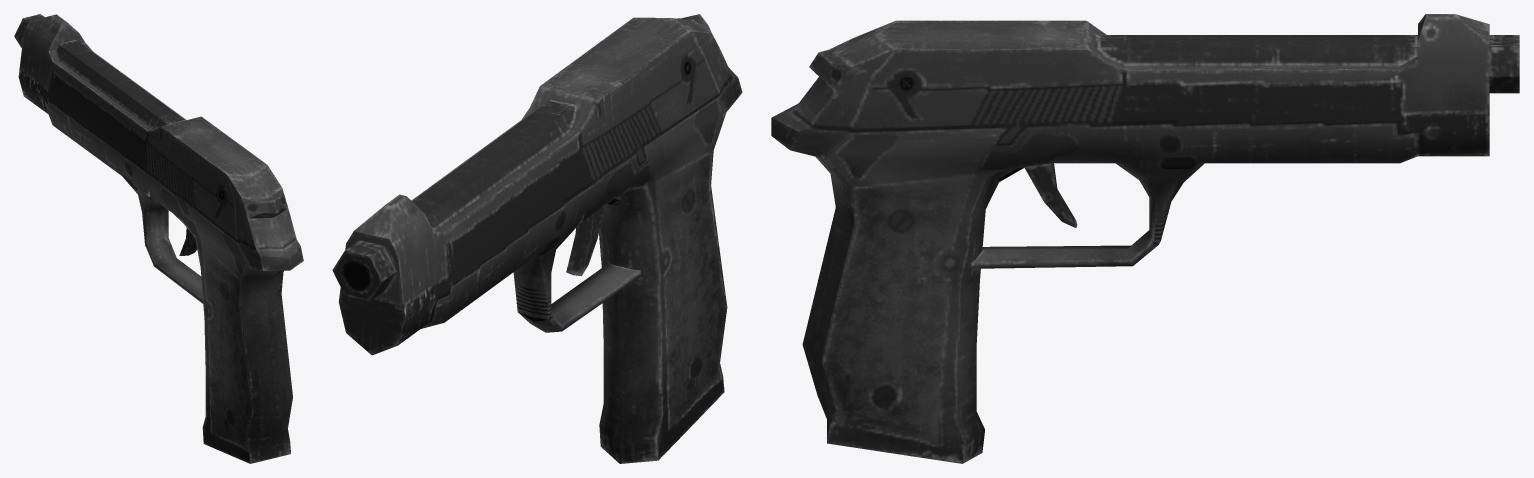
Rendered from Props_Pistol_1.FBX.
3 renders of one model, left to right at view 1: azimuth 30°, elevation 25°; view 2: azimuth 150°, elevation 25°; view 3: azimuth 270°, elevation 25°, orthographic. The views are drawn at different scales.
Visible parts, largest first — view 1: Pistol_1; view 2: Pistol_1; view 3: Pistol_1.
Boxes of the visible parts, x1,y1,x2,y2 form: Pistol_1: (14, 14, 303, 463); Pistol_1: (332, 14, 742, 463); Pistol_1: (771, 14, 1519, 463).
Bounding box in the file's own units: 6.77 × 38.24 × 59.33.
1 material, 1 textured.
